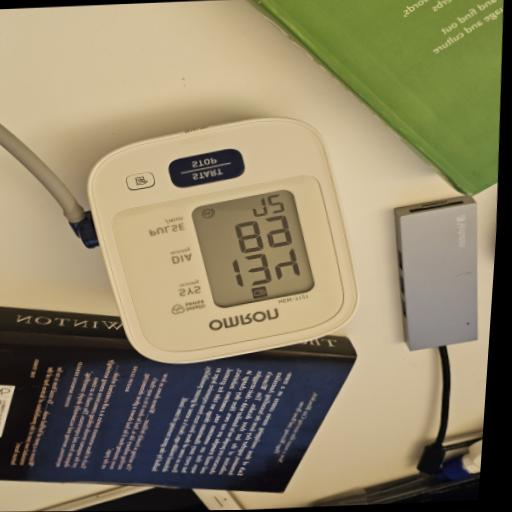blood pressure monitor: (71, 113, 374, 369)
